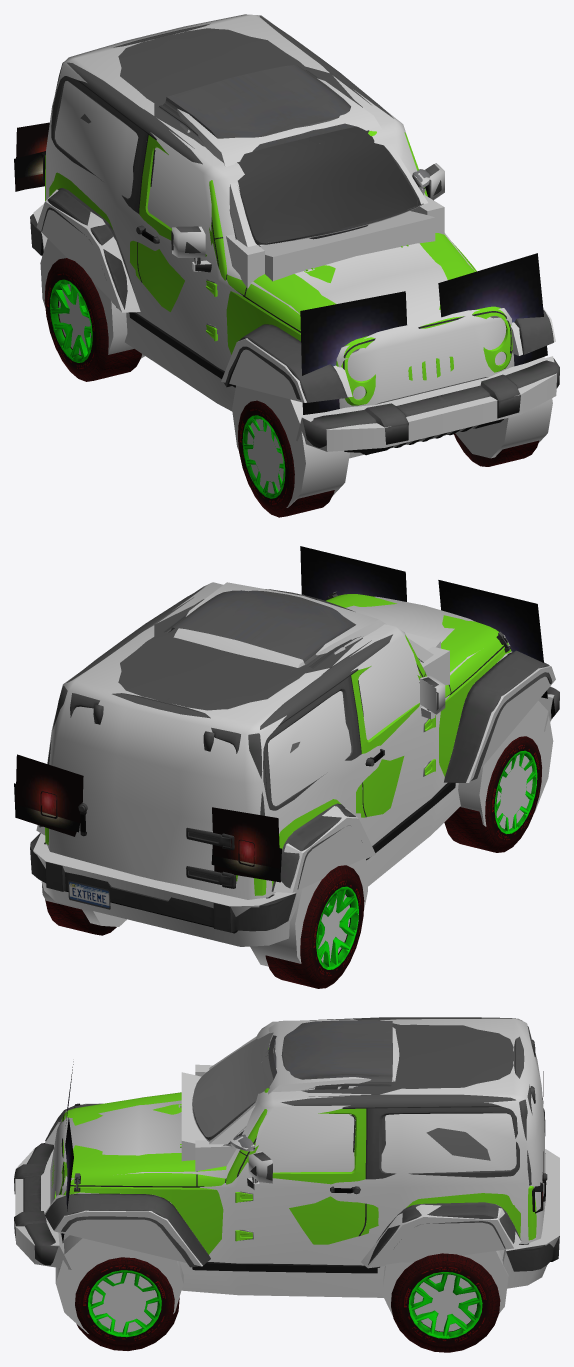
File: P_car-007_Rubito.fbx
3 renders of one model, top to bottom at view 1: azimuth 30°, elevation 25°; view 2: azimuth 150°, elevation 25°; view 3: azimuth 270°, elevation 25°, orthographic. The views are drawn at different scales.
Visible parts, largest first — view 1: M_Car-007_Shadow_Rubito_01, M_Car-007_Details_Rubito_01, M_Car-Interior_Glass_01, M_Car-007_Body_Rubito_01, M_Car-Interior_Shadowform_01, M_Car-Interior_Details_01, M_Car-007_FrontFlares_Rubito_01, M_CarWheel-001_AP (1) (×2), M_CarWheel-001_AP_01 (1) (×3), M_CarTire-001_AP_01 (1) (×2), M_Car-007_BackFlaresBrake_Rubito_01, M_CarTire-001_AP (1) (+1 smaller); view 2: M_Car-007_Shadow_Rubito_01, M_Car-007_Details_Rubito_01, M_Car-007_Body_Rubito_01, M_Car-007_FrontFlares_Rubito_01, M_Car-Interior_Details_01, M_Car-007_BackFlaresBrake_Rubito_01, M_CarWheel-001_AP_01 (1) (×2), M_Car-Interior_Shadowform_01, M_CarWheel-001_AP (1) (×3), M_CarTire-001_AP (1) (×2), M_Car-007_BackLights_Rubito_01, M_Car-007_LicensePlate_Rubito_01 (+1 smaller); view 3: M_Car-007_Shadow_Rubito_01, M_Car-007_Details_Rubito_01, M_Car-007_Body_Rubito_01, M_Car-Interior_Details_01, M_Car-Interior_Shadowform_01, M_Car-Interior_Glass_01, M_CarWheel-001_AP_01 (1) (×2), M_CarWheel-001_AP (1) (×2), M_CarTire-001_AP_01 (1) (×2), M_CarTire-001_AP (1) (×2), M_Car-007_Glass_Rubito_01, M_Car-007_FrontFlares_Rubito_01.
Part boxes in pixels (<box>): M_Car-007_Shadow_Rubito_01: <box>33,14,556,507</box>; M_Car-007_Details_Rubito_01: <box>30,15,559,455</box>; M_Car-Interior_Glass_01: <box>237,126,417,243</box>; M_Car-007_Body_Rubito_01: <box>45,131,512,405</box>; M_Car-Interior_Shadowform_01: <box>177,78,444,288</box>; M_Car-Interior_Details_01: <box>158,65,429,246</box>; M_Car-007_FrontFlares_Rubito_01: <box>300,253,547,414</box>; M_CarWheel-001_AP (1) (×2): <box>72,268,334,517</box>; M_CarWheel-001_AP_01 (1) (×3): <box>44,258,538,513</box>; M_CarTire-001_AP_01 (1) (×2): <box>50,279,268,496</box>; M_Car-007_BackFlaresBrake_Rubito_01: <box>15,122,49,190</box>; M_CarTire-001_AP (1): <box>70,287,92,362</box>; M_Car-007_Shadow_Rubito_01: <box>33,582,556,966</box>; M_Car-007_Details_Rubito_01: <box>30,587,559,933</box>; M_Car-007_Body_Rubito_01: <box>45,594,511,895</box>; M_Car-007_FrontFlares_Rubito_01: <box>300,546,547,698</box>; M_Car-Interior_Details_01: <box>163,589,423,668</box>; M_Car-007_BackFlaresBrake_Rubito_01: <box>15,754,280,880</box>; M_CarWheel-001_AP_01 (1) (×2): <box>265,737,520,988</box>; M_Car-Interior_Shadowform_01: <box>173,582,449,685</box>; M_CarWheel-001_AP (1) (×3): <box>45,736,541,981</box>; M_CarTire-001_AP (1) (×2): <box>330,750,537,965</box>; M_Car-007_BackLights_Rubito_01: <box>14,783,281,881</box>; M_Car-007_LicensePlate_Rubito_01: <box>68,880,110,909</box>; M_Car-007_Shadow_Rubito_01: <box>15,1018,559,1333</box>; M_Car-007_Details_Rubito_01: <box>14,1017,559,1273</box>; M_Car-007_Body_Rubito_01: <box>51,1048,536,1254</box>; M_Car-Interior_Details_01: <box>192,1020,392,1150</box>; M_Car-Interior_Shadowform_01: <box>181,1019,399,1171</box>; M_Car-Interior_Glass_01: <box>193,1032,349,1143</box>; M_CarWheel-001_AP_01 (1) (×2): <box>75,1253,456,1352</box>; M_CarWheel-001_AP (1) (×2): <box>127,1254,500,1352</box>; M_CarTire-001_AP_01 (1) (×2): <box>88,1270,452,1338</box>; M_CarTire-001_AP (1) (×2): <box>122,1271,482,1338</box>; M_Car-007_Glass_Rubito_01: <box>426,1128,490,1160</box>; M_Car-007_FrontFlares_Rubito_01: <box>61,1061,73,1242</box>.
Bounding box in the file's own units: 1.95 × 2.04 × 3.98.
